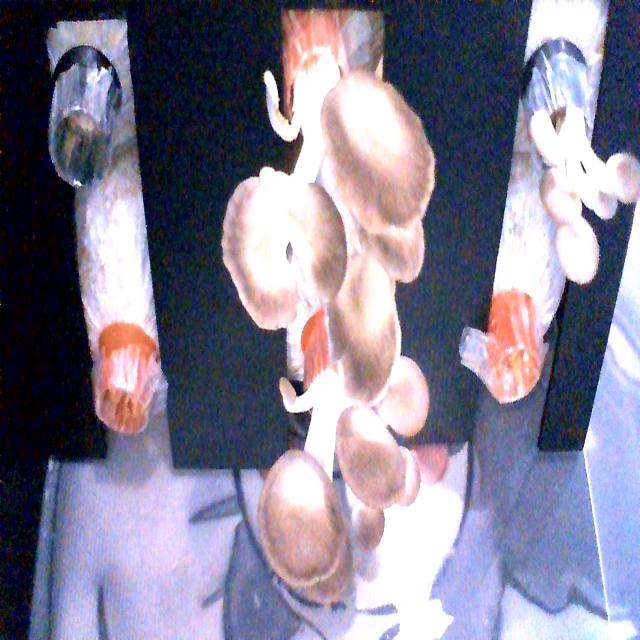big: (239, 48, 433, 414), (242, 357, 425, 550)
nfound: (476, 311, 552, 471), (44, 76, 127, 218), (85, 362, 160, 469)
small: (527, 62, 640, 295)
